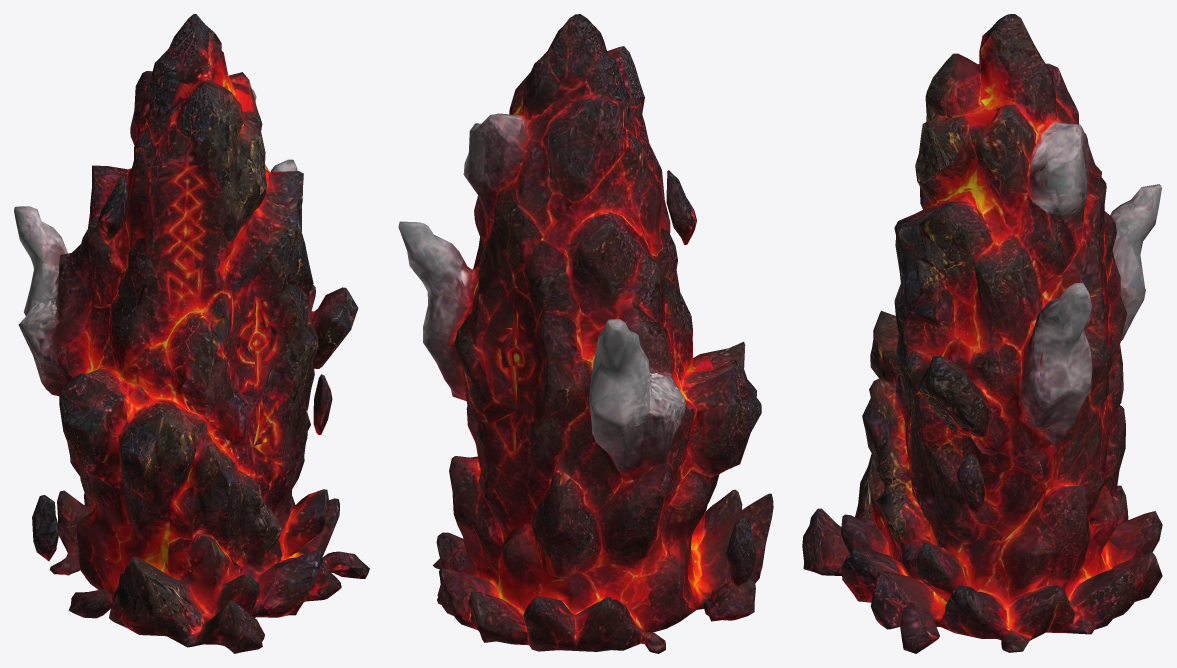
The model's file is metin.glb.
The picture shows the model from 3 angles, left to right: view 1: azimuth 30°, elevation 25°; view 2: azimuth 150°, elevation 25°; view 3: azimuth 270°, elevation 25°; orthographic projection. The views are drawn at different scales.
Visible parts, largest first — view 1: metin; view 2: metin; view 3: metin.
Boxes of the visible parts, x1,y1,x2,y2 form: metin: (14,14,369,653); metin: (398,14,773,653); metin: (802,14,1162,653).
Bounding box in the file's own units: 1.96 × 3.5 × 1.98.
Materials: 1 (1 with a texture image).
